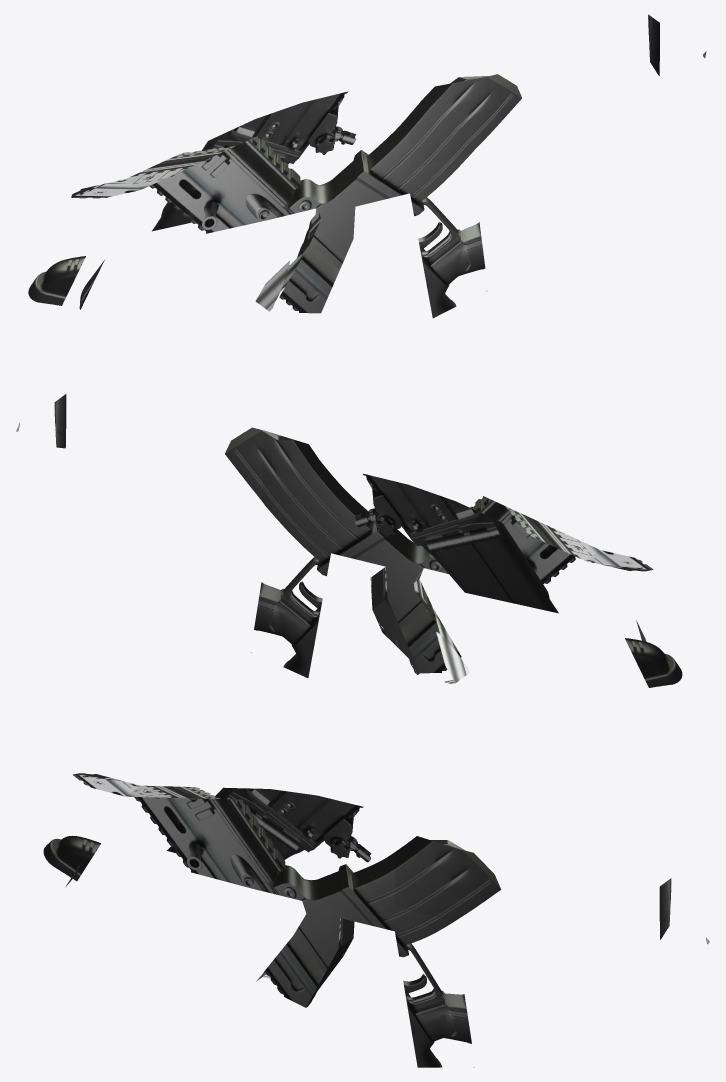
File: AssaultRifle.fbx
3 views of the same model, one above another, from view 1: azimuth 30°, elevation 25°; view 2: azimuth 150°, elevation 25°; view 3: azimuth 330°, elevation 25° (orthographic).
Parts seen in each view (by area): view 1: Cube; view 2: Cube; view 3: Cube.
Part boxes in pixels (x1,y1,x2,y2): Cube: (28,14,706,318); Cube: (16,394,682,687); Cube: (43,773,709,1067).
Size of the model in its own units: 111 by 37.03 by 6.76.
